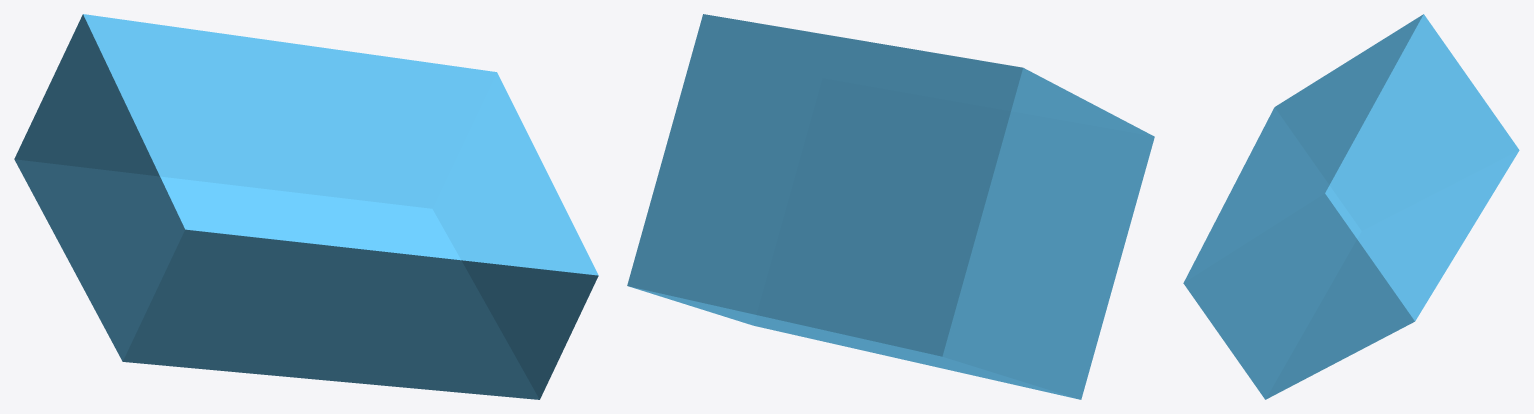
The model's file is Event_420107950_HErechit_45.fbx.
The picture shows the model from 3 angles, left to right: view 1: azimuth 30°, elevation 25°; view 2: azimuth 150°, elevation 25°; view 3: azimuth 270°, elevation 25°; orthographic projection. The views are drawn at different scales.
Parts seen in each view (by area): view 1: Model; view 2: Model; view 3: Model.
Boxes of the visible parts, <box> form: Model: <box>14,14,598,399</box>; Model: <box>627,14,1154,399</box>; Model: <box>1183,14,1519,399</box>.
Size of the model in its own units: 0.7047 by 0.7478 by 0.8463.
